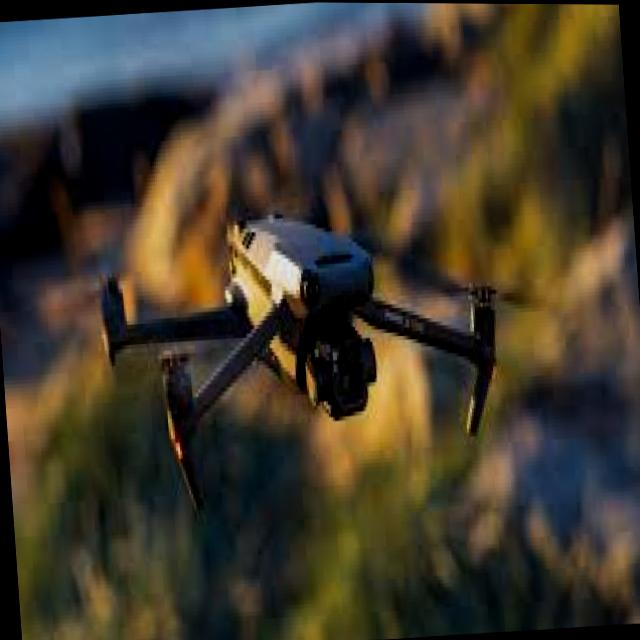drone: (62, 147, 536, 519)
